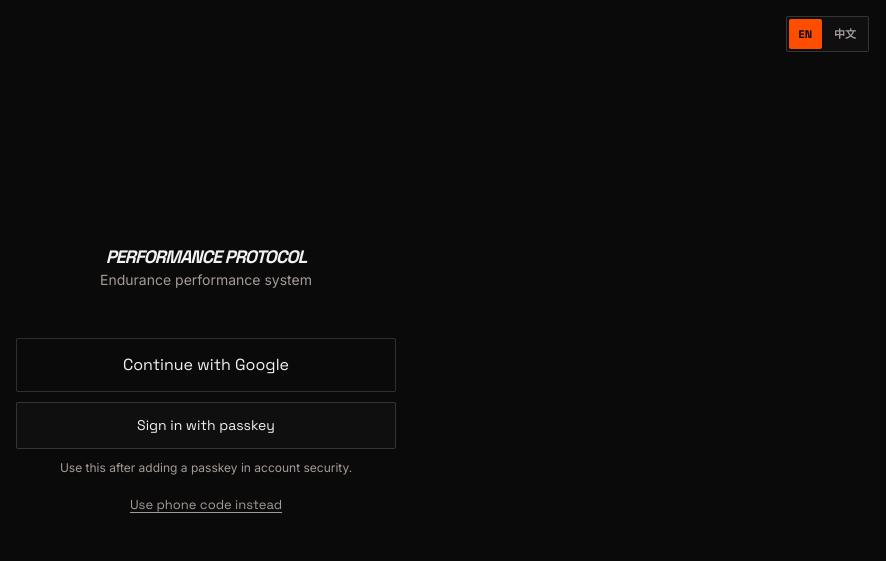
Test case: LoginPage › keeps SMS fallback available when Google is not configured
Click the button "Continue with Google": (206, 365) top-left (16, 338), bottom-right (396, 392)
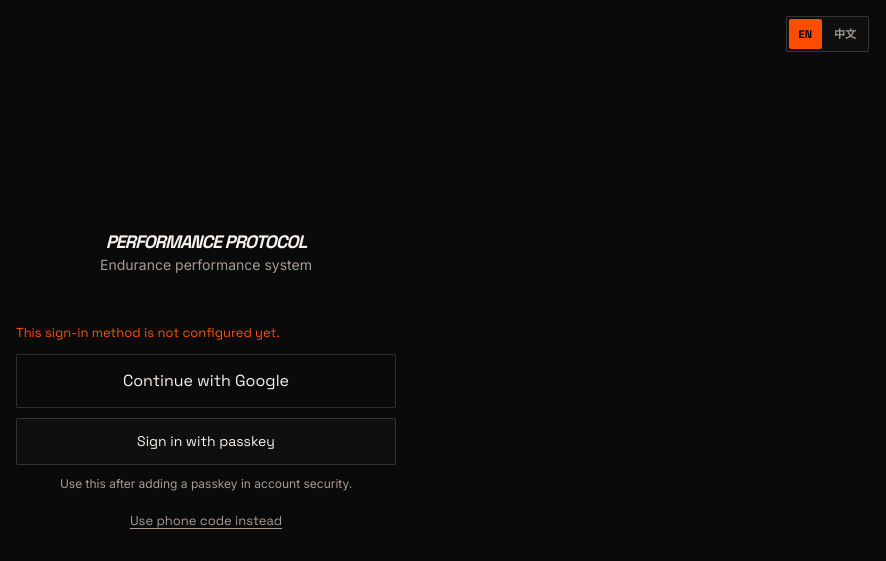
Result: the text "This sign-in method is not configured yet." is shown at top-left (16, 324), bottom-right (280, 340)
Click the button "Use phone code instead": (206, 521) top-left (130, 511), bottom-right (282, 530)
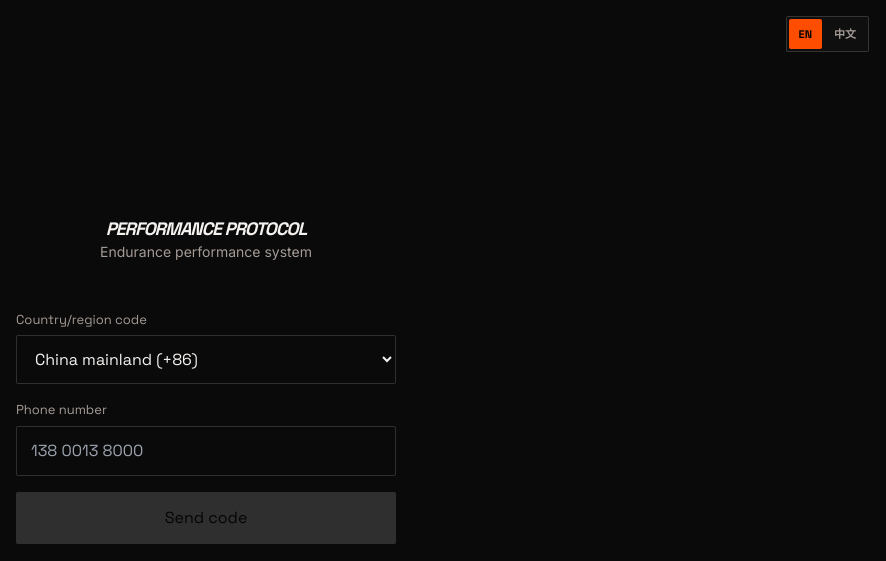
Result: the field with placeholder "138 0013 8000" is shown at top-left (16, 426), bottom-right (396, 476)
